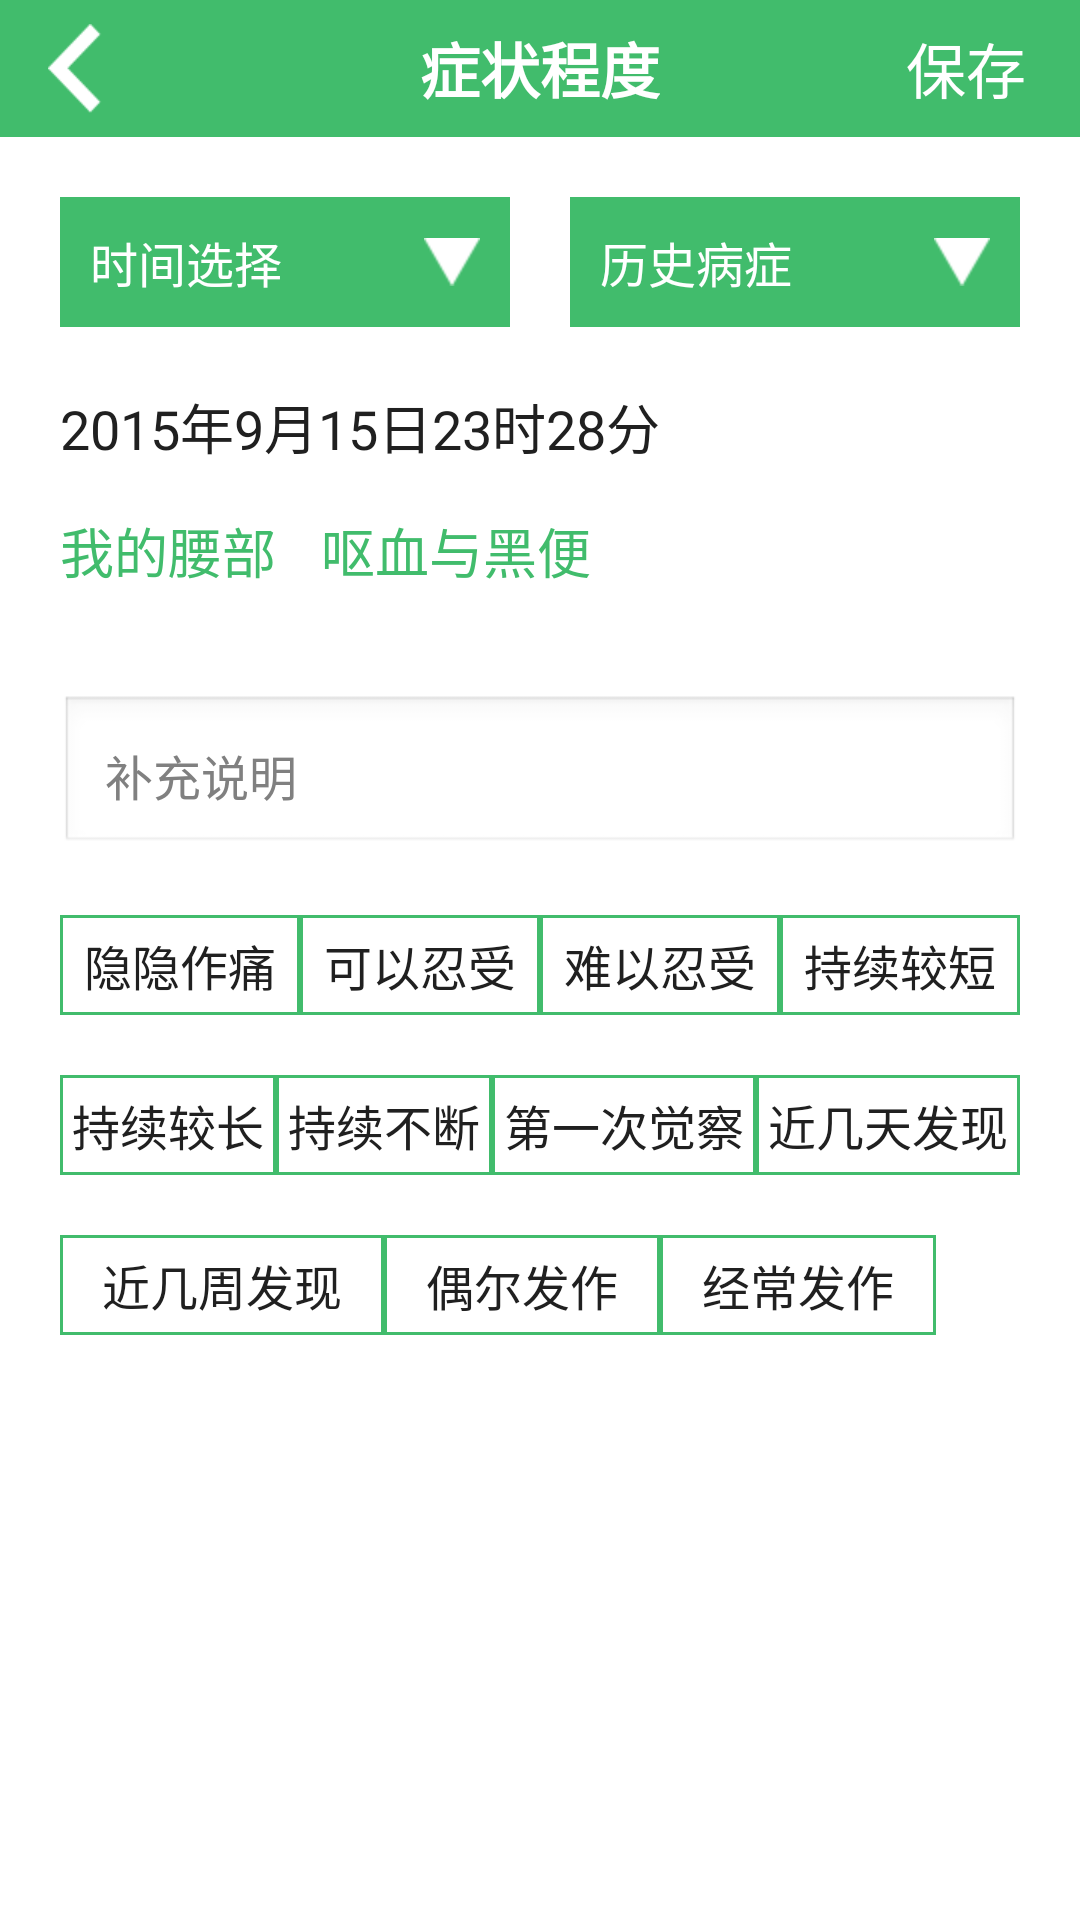

Screen size 1080w x 1920h. Icon name, then its box in pixels as (x1, y1, x2, y2):
back: (48, 24, 101, 113)
